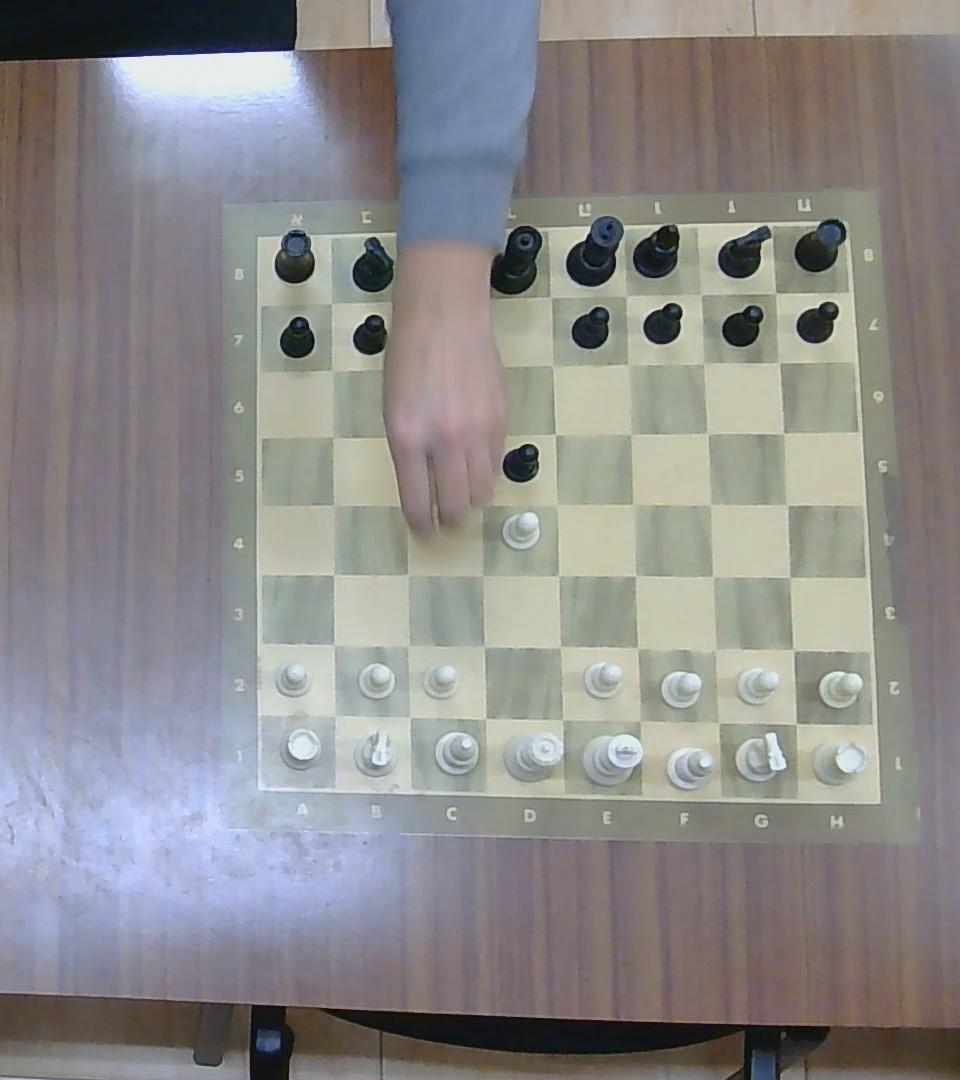xcorner: (777, 705, 811, 739), (464, 286, 498, 320), (622, 702, 656, 735), (701, 705, 734, 738), (620, 631, 653, 664), (543, 630, 575, 662), (318, 699, 350, 731), (546, 702, 578, 734), (469, 701, 500, 733), (386, 287, 417, 319), (697, 561, 728, 592), (774, 561, 805, 592), (393, 699, 423, 731), (698, 634, 730, 664), (776, 634, 807, 664), (620, 560, 650, 590), (469, 631, 499, 661), (393, 629, 423, 659), (317, 629, 347, 659), (543, 560, 573, 590), (467, 560, 496, 590), (619, 488, 649, 517), (393, 559, 422, 588), (319, 559, 348, 588), (611, 280, 639, 309), (695, 490, 723, 518), (318, 490, 346, 518), (316, 288, 345, 315), (772, 489, 801, 516), (615, 420, 644, 447), (693, 418, 722, 445), (317, 421, 345, 448), (543, 489, 571, 516), (770, 418, 798, 445), (465, 491, 493, 518), (317, 356, 345, 382), (538, 351, 566, 377), (615, 350, 641, 377), (688, 280, 714, 306), (762, 279, 789, 304), (467, 423, 492, 450), (471, 354, 496, 381), (690, 350, 716, 375), (541, 421, 567, 446), (390, 356, 414, 383), (388, 424, 413, 449), (390, 491, 414, 517), (766, 350, 791, 374), (540, 286, 562, 307)
